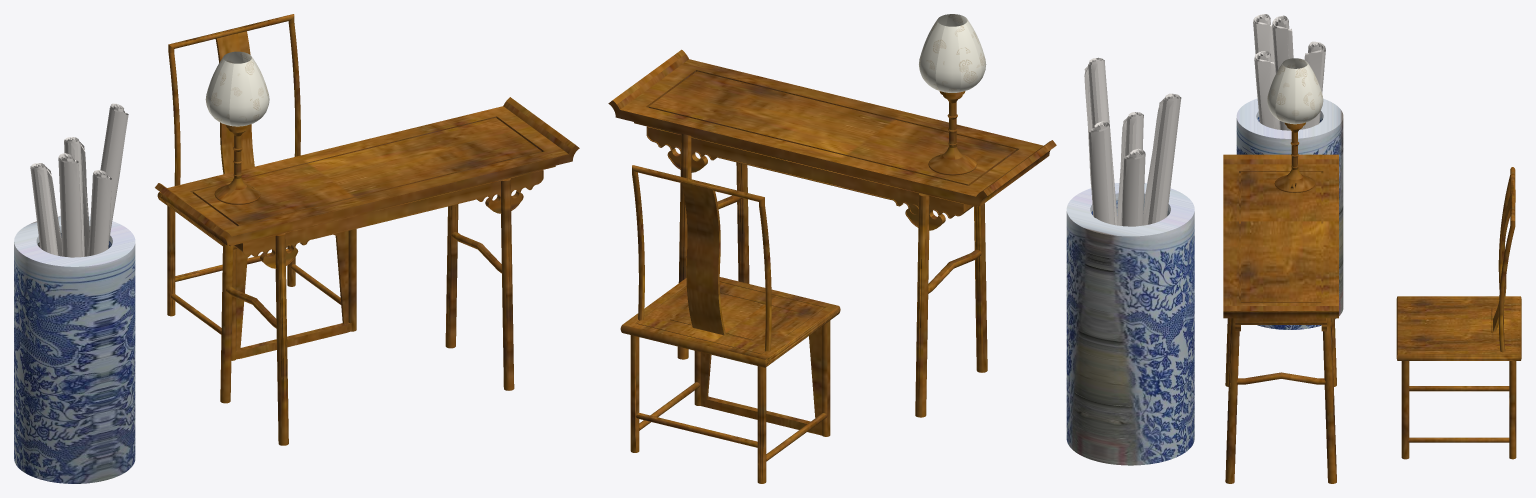
The model's file is scholar_desk.glb.
3 views of the same model, side by side, from view 1: azimuth 30°, elevation 25°; view 2: azimuth 150°, elevation 25°; view 3: azimuth 270°, elevation 25° (orthographic). The views are drawn at different scales.
Visible parts, largest first — view 1: Group_100; view 2: Group_100; view 3: Group_100.
Boxes of the visible parts, left/top/right/bottom form: Group_100: left=14, top=14, right=579, bottom=483; Group_100: left=608, top=14, right=1194, bottom=483; Group_100: left=1223, top=14, right=1521, bottom=483.
Size of the model in its own units: 1.96 by 1.3 by 1.1.
Materials: 4 (3 with a texture image).
